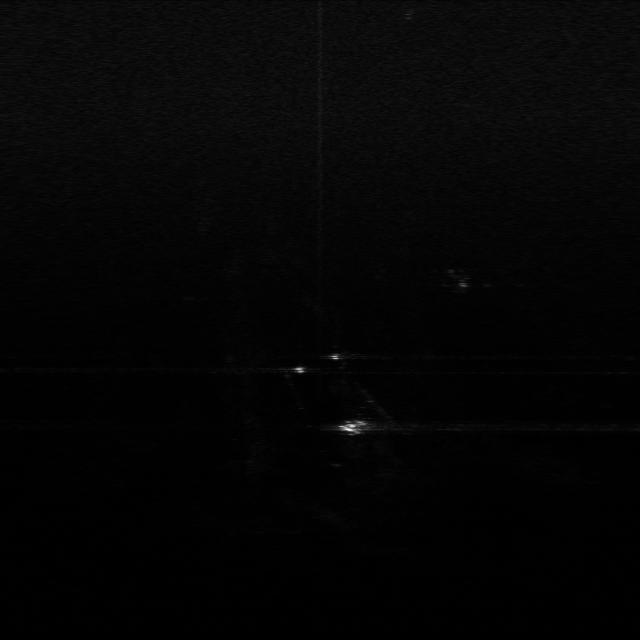rov: (327, 414, 374, 438)
